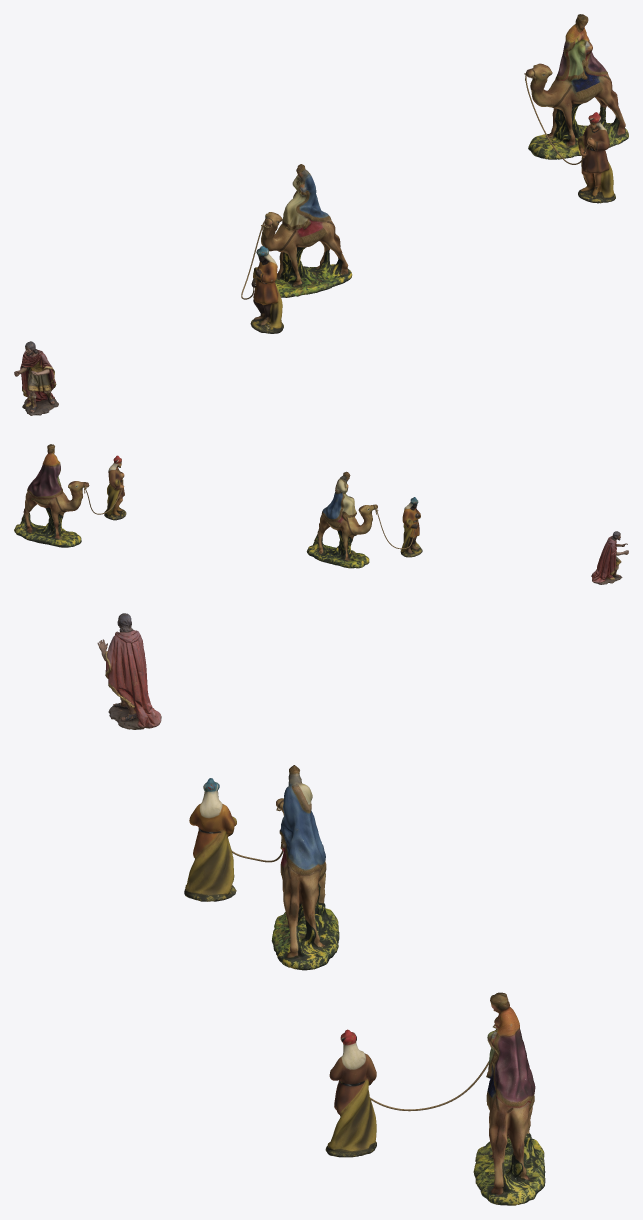
Rendered from frist-scene.glb.
3 views of the same model, one above another, from view 1: azimuth 30°, elevation 25°; view 2: azimuth 150°, elevation 25°; view 3: azimuth 270°, elevation 25° (orthographic). The views are drawn at different scales.
Visible parts, largest first — view 1: Reis_Conj_3, Reisj_Conj_1, Object_2, Object_3; view 2: Reis_Conj_3, Reisj_Conj_1, Object_2, Object_3; view 3: Reis_Conj_3, Reisj_Conj_1, Object_2, Object_3.
Boxes of the visible parts, x1,y1,x2,y2 form: Reis_Conj_3: [524, 14, 628, 203]; Reisj_Conj_1: [241, 164, 352, 333]; Object_2: [14, 349, 58, 415]; Object_3: [20, 343, 55, 403]; Reis_Conj_3: [14, 444, 126, 547]; Reisj_Conj_1: [306, 471, 422, 568]; Object_2: [591, 532, 628, 584]; Object_3: [593, 533, 627, 577]; Reis_Conj_3: [325, 992, 545, 1205]; Reisj_Conj_1: [184, 765, 339, 970]; Object_2: [99, 615, 161, 729]; Object_3: [97, 617, 154, 718].
Size of the model in its own units: 5.49 by 0.9271 by 2.06.
Materials: 7 (7 with a texture image).
